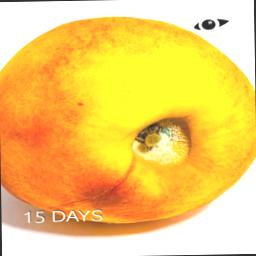Peach Overripe: (0, 10, 256, 229)
